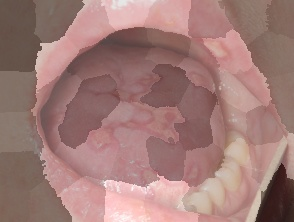SJS-TEN: (78, 65, 184, 154), (129, 145, 205, 215), (181, 64, 232, 109), (194, 28, 232, 61)
